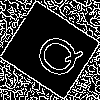Q: (25, 25, 86, 85)
